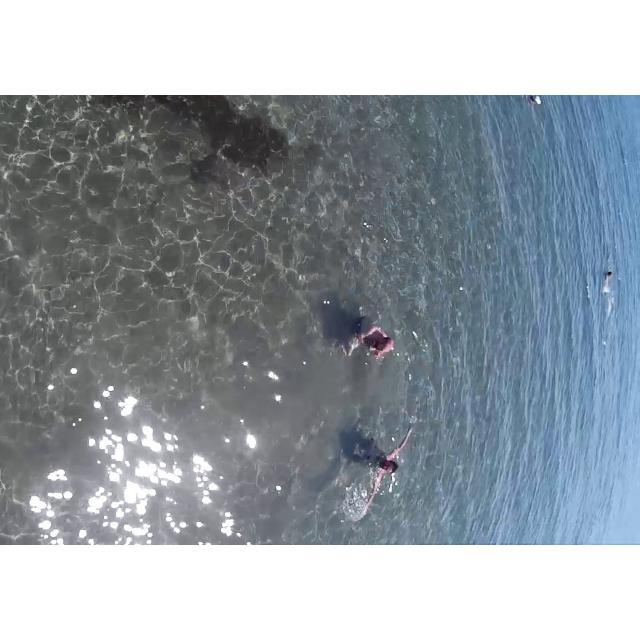human: (354, 421, 412, 523), (348, 307, 393, 368), (517, 95, 544, 111)
